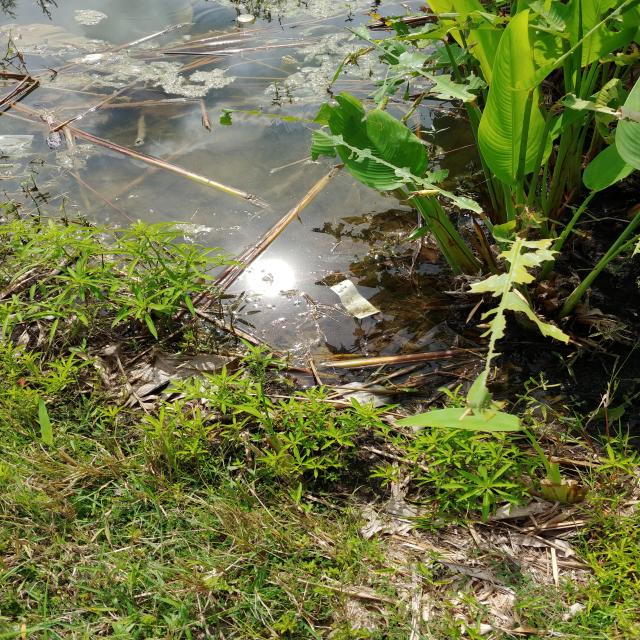litter: (311, 261, 400, 337)
